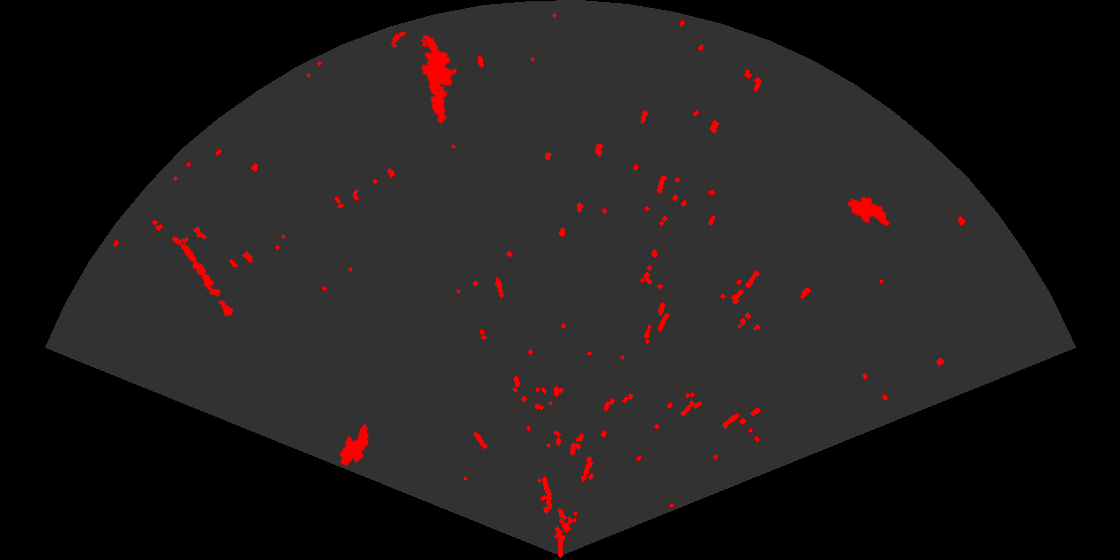AUV: (846, 195, 891, 228), (338, 422, 370, 468)
chain: (171, 234, 235, 318)
frogman: (419, 38, 459, 126)
